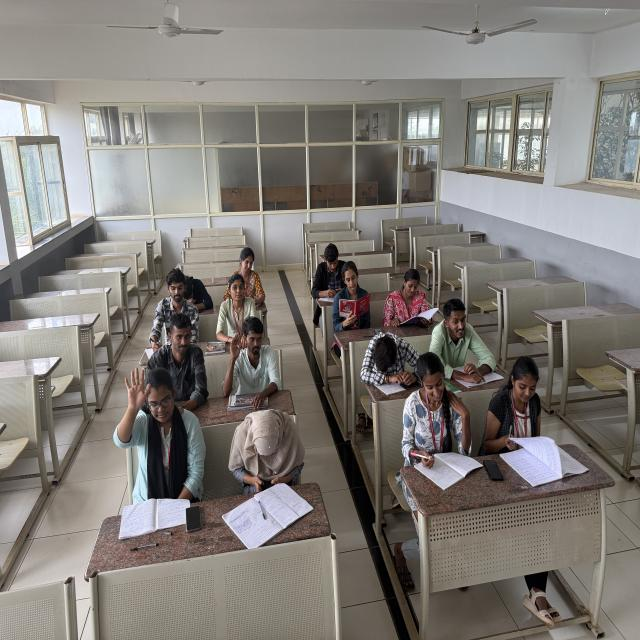Hand Rising: (110, 358, 207, 520), (222, 315, 280, 399)
Reading: (483, 359, 561, 475), (381, 267, 443, 330)
Sleeping: (356, 330, 424, 390), (180, 274, 220, 318)
Using Phone: (225, 404, 307, 490)
Writing: (400, 348, 480, 482), (143, 268, 203, 341), (310, 243, 352, 303)
